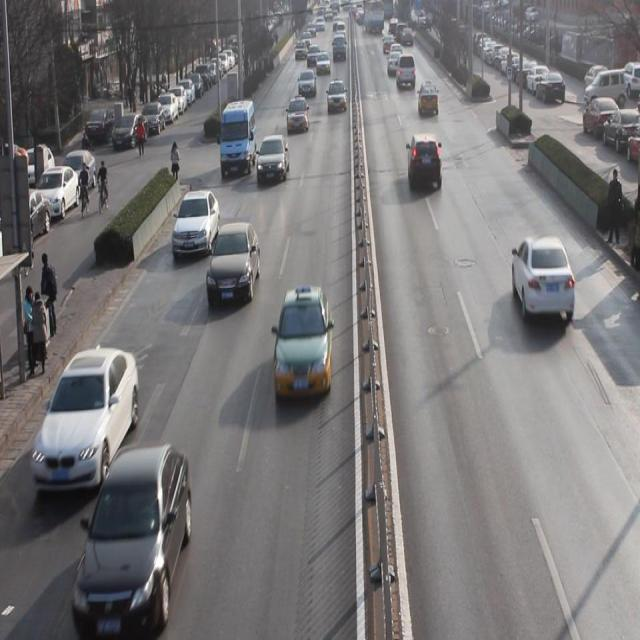car: (72, 449, 190, 628), (33, 350, 140, 487), (273, 285, 333, 404), (511, 238, 576, 325), (208, 222, 261, 309), (173, 188, 220, 255), (408, 133, 442, 191), (256, 134, 291, 186), (286, 94, 311, 135), (418, 78, 439, 118), (326, 78, 348, 114), (296, 66, 317, 98)
truck: (219, 98, 256, 180), (395, 54, 416, 89)
